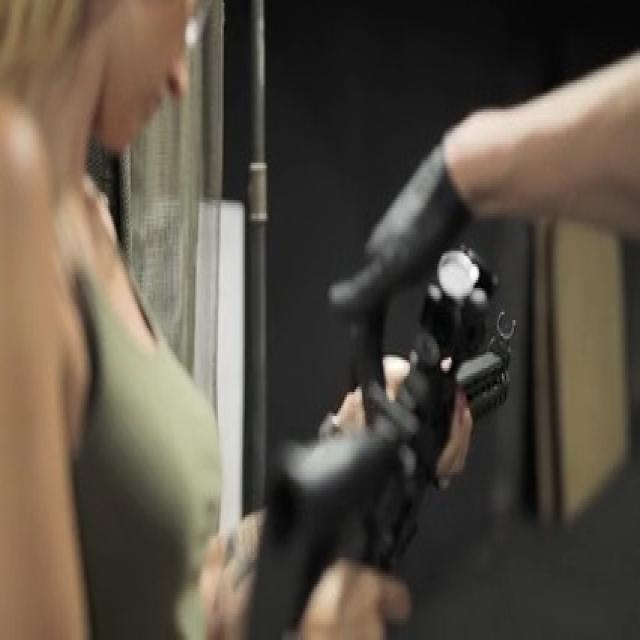Gun_Holder: (211, 236, 628, 624)
Person: (2, 0, 288, 640)
